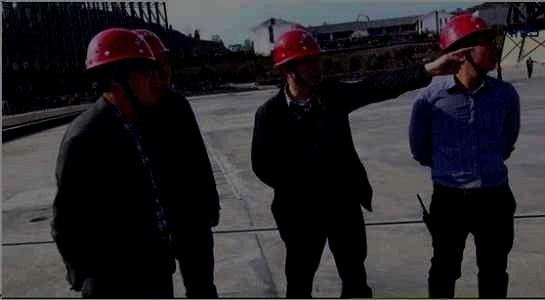helmet: (84, 27, 156, 108), (438, 12, 498, 72), (271, 27, 326, 89), (132, 29, 170, 92)
